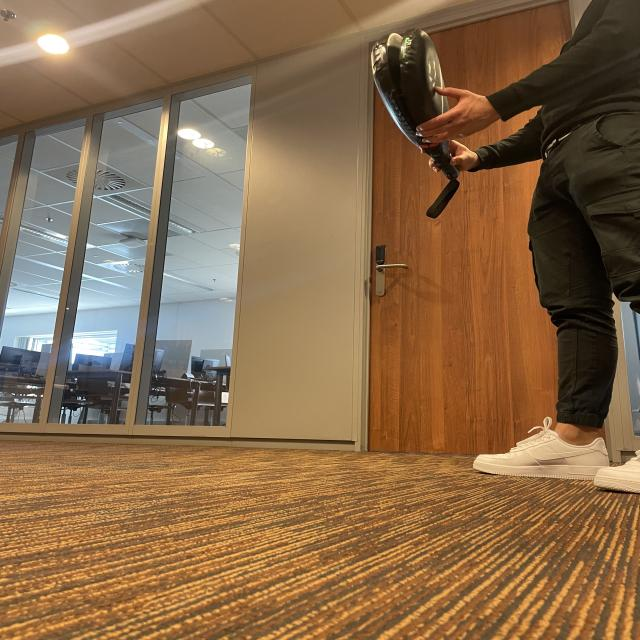paddle: (369, 30, 448, 120)
